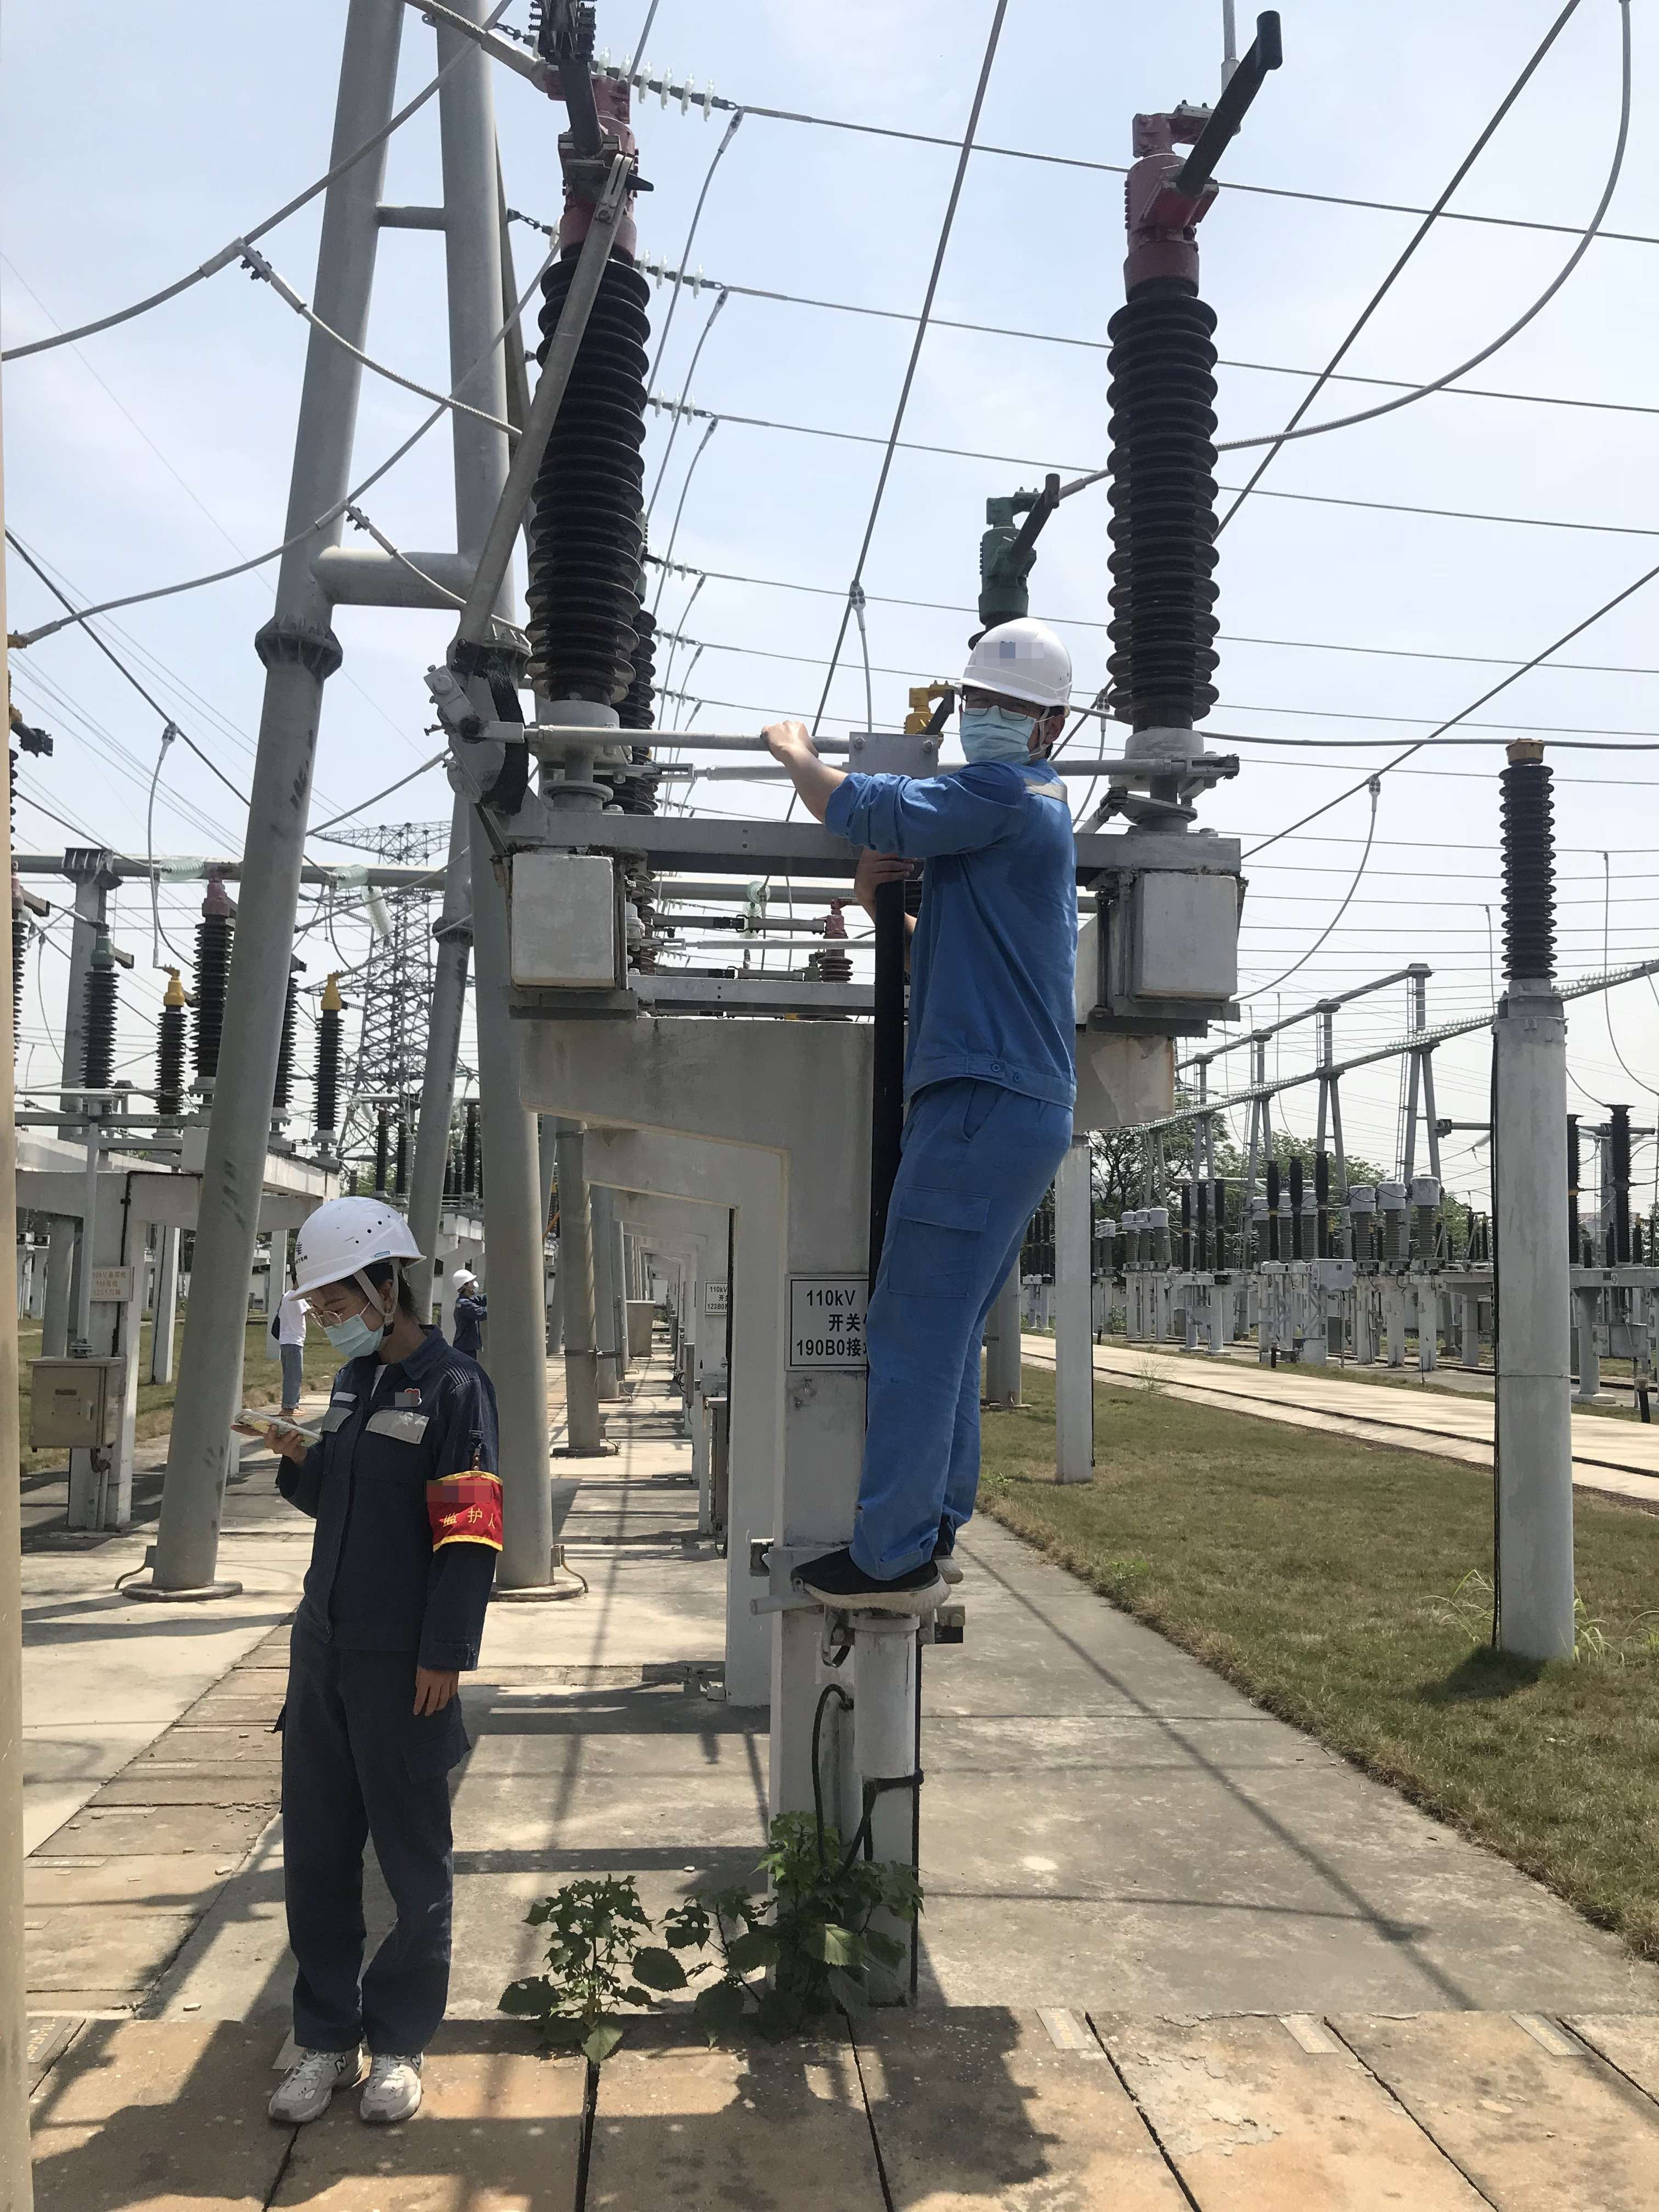downsuit: (850, 1123, 1070, 1580), (284, 1688, 476, 2060)
upsuit: (833, 763, 1096, 1109), (279, 1359, 502, 1670)
wrongtop: (758, 705, 861, 840)
